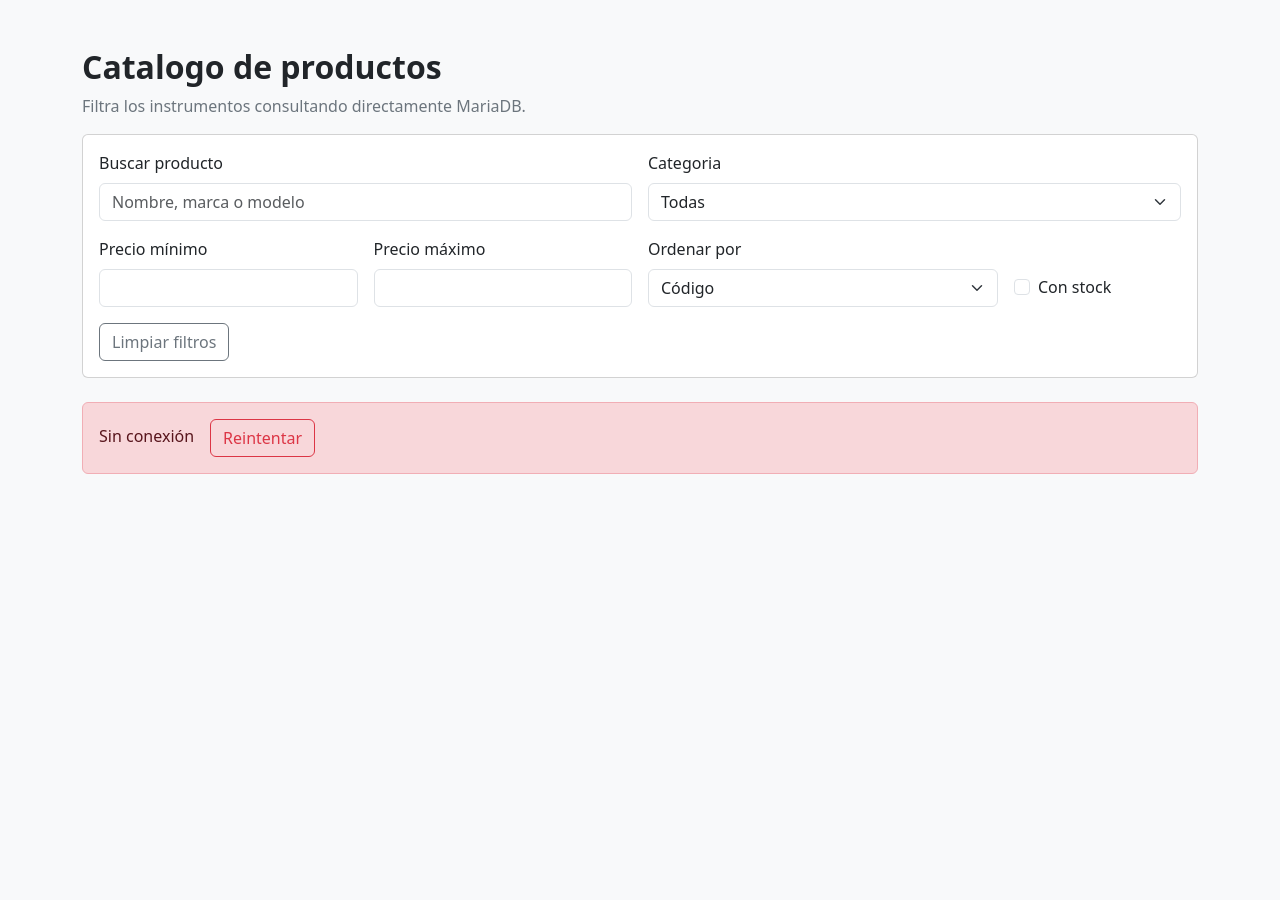
Test: Catalogo con filtros REST en MariaDB › muestra errores del servidor y permite reintentar
This screenshot has width=1280, height=900.
Expected: the message shows "Sin conexión", [99,426,194,448]
Click the button "Reintentar" at coordinates (263, 438), box [210,419,315,457]
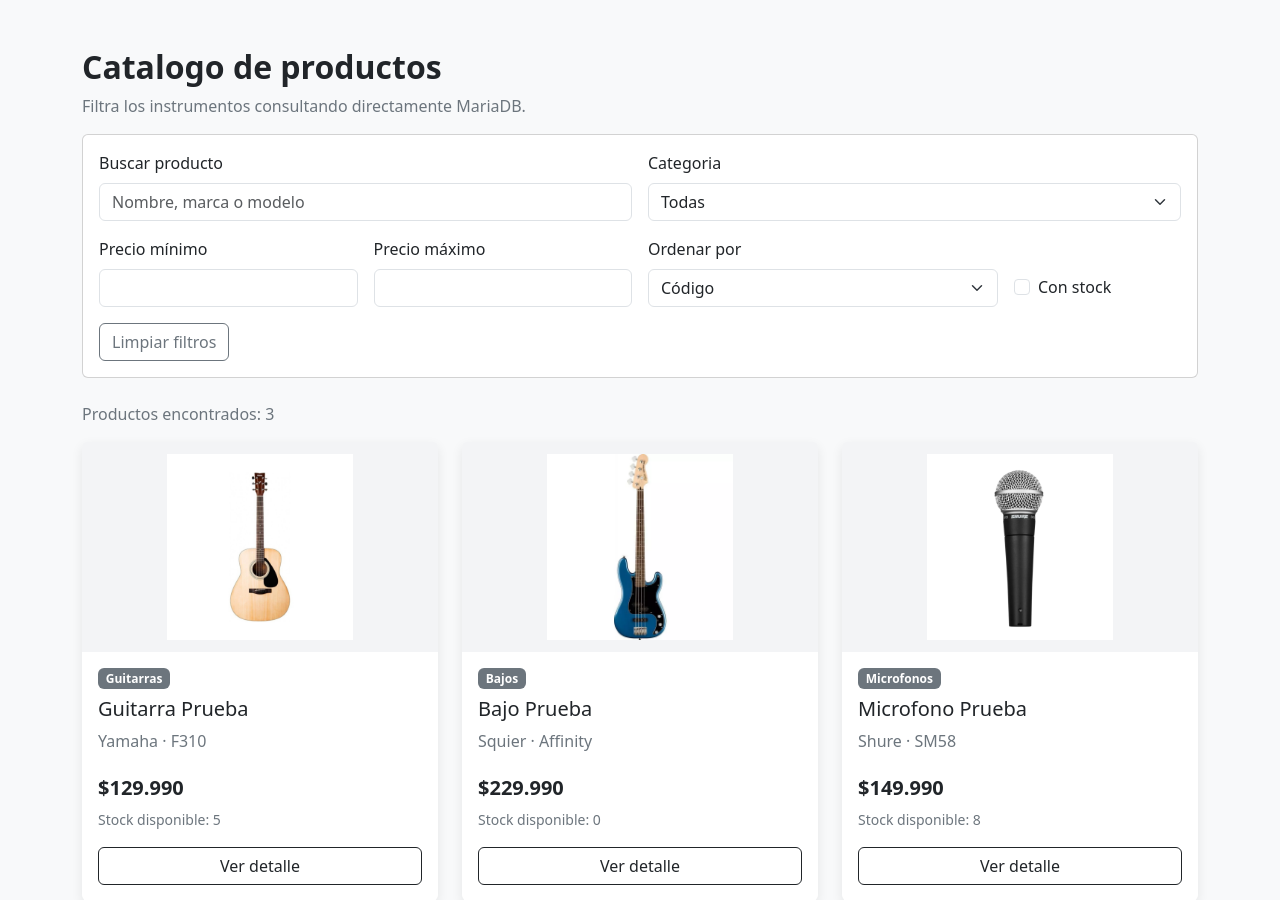
Now the heading "Guitarra Prueba" is shown, box [98,695,249,722]
